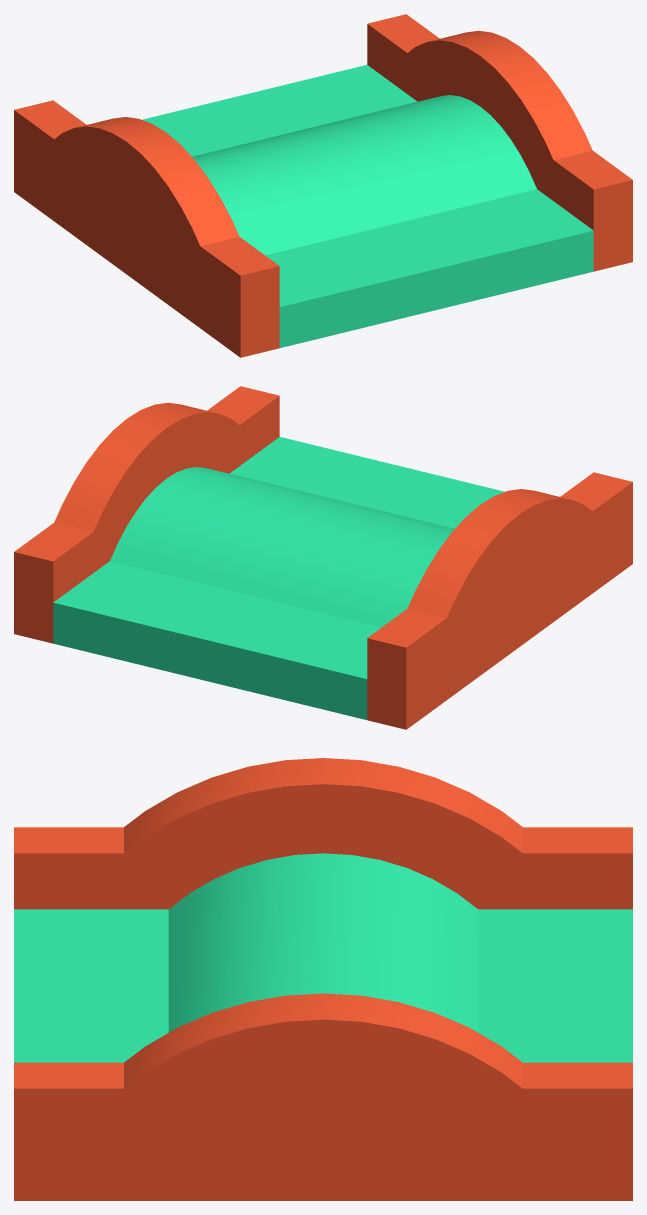
The model's file is track_12.fbx.
3 views of the same model, one above another, from view 1: azimuth 30°, elevation 25°; view 2: azimuth 150°, elevation 25°; view 3: azimuth 270°, elevation 25° (orthographic). The views are drawn at different scales.
Visible parts, largest first — view 1: straight_bump_22; view 2: straight_bump_22; view 3: straight_bump_22.
Boxes of the visible parts, bbox=[...] form: straight_bump_22: bbox=[14, 14, 632, 357]; straight_bump_22: bbox=[14, 386, 632, 729]; straight_bump_22: bbox=[14, 758, 632, 1200].
Size of the model in its own units: 10 by 3.23 by 10.
